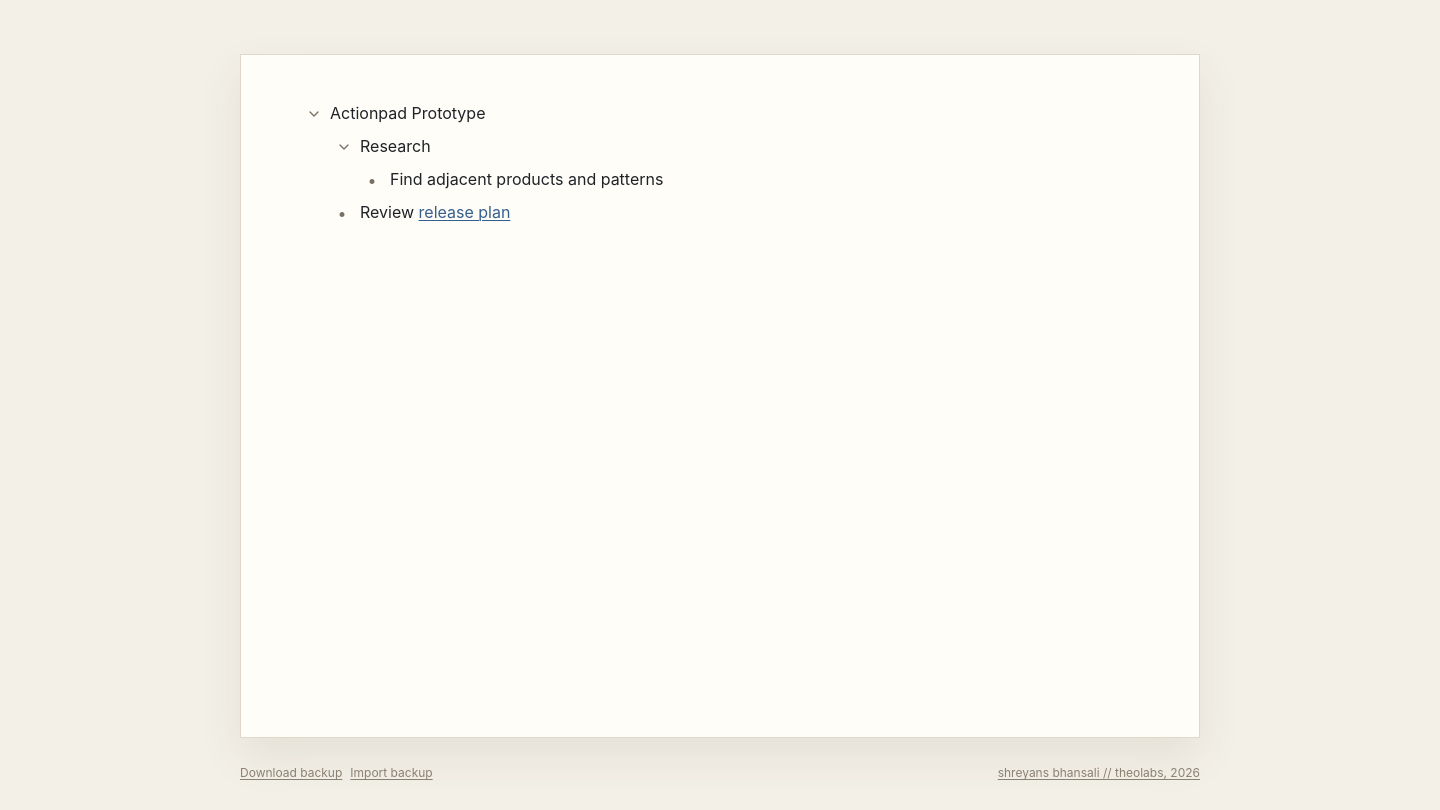
Test: clicking a markdown link to a markdown file opens the side panel document viewer
Click the button with aria-label "open release plan" at [464, 212], box [419,200,510,225]
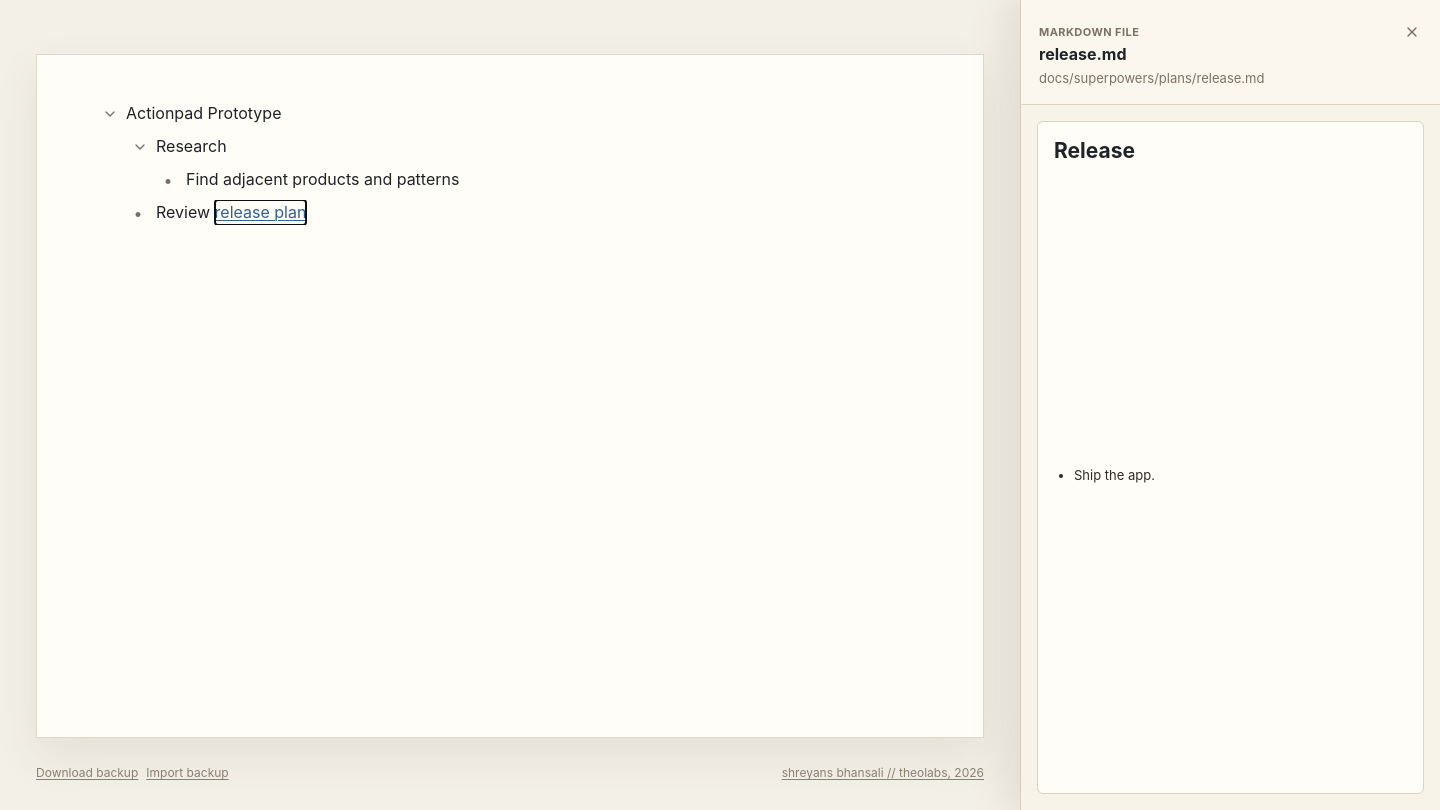
Check: the heading "release.md" is shown, box [1039,44,1126,64]
Check: the heading "Release" is shown, box [1054,138,1135,163]
Check: the list item "Ship the app." is shown, box [1074,467,1155,483]
